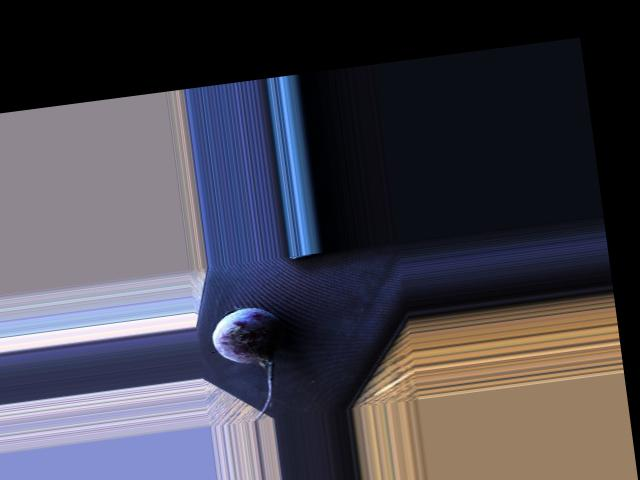beet: (209, 303, 296, 424)
